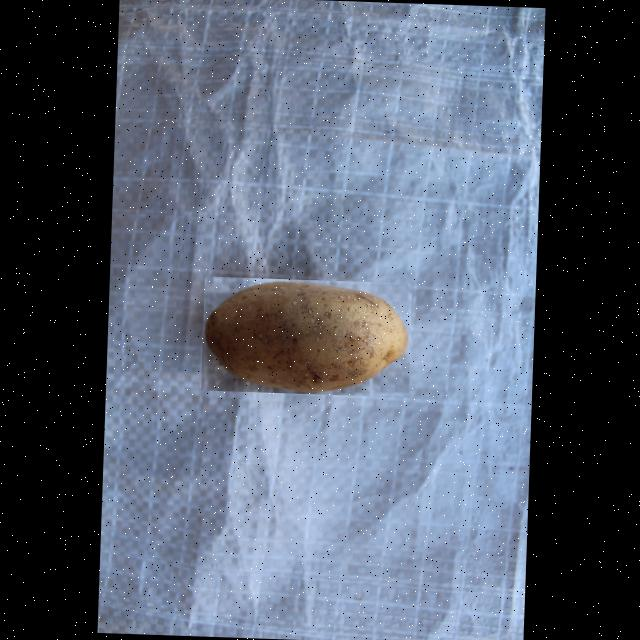Diseased-fungal potato: (200, 276, 412, 397)
